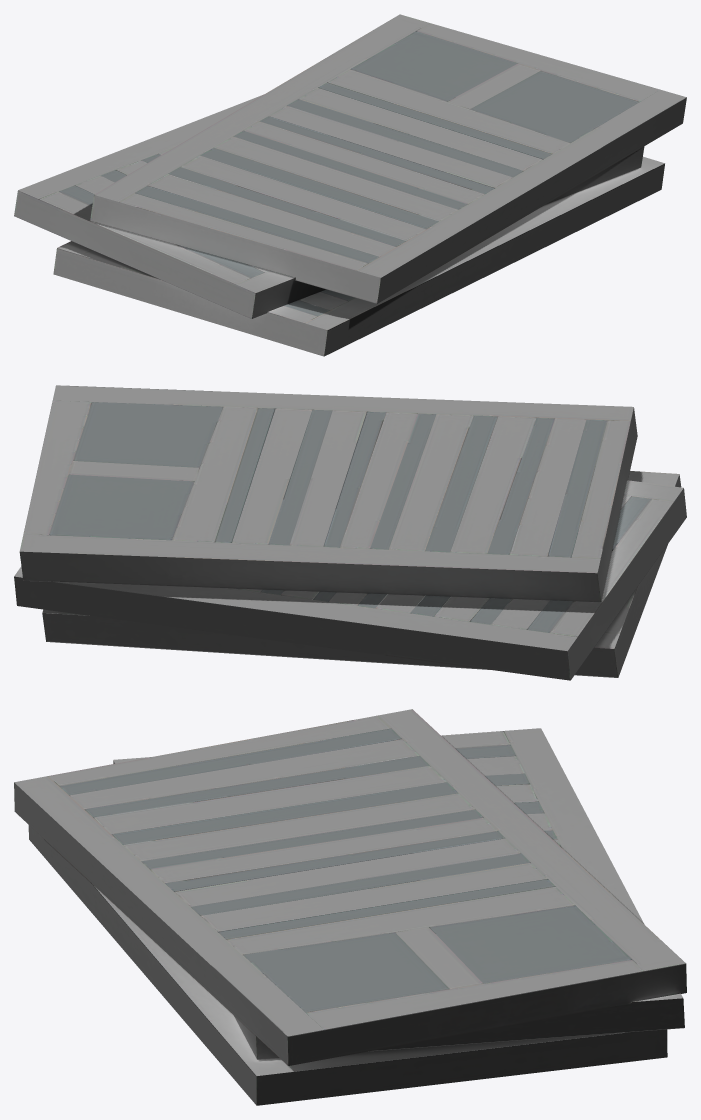
The model's file is documentos_h.glb.
3 views of the same model, one above another, from view 1: azimuth 30°, elevation 25°; view 2: azimuth 150°, elevation 25°; view 3: azimuth 270°, elevation 25° (orthographic). The views are drawn at different scales.
Visible parts, largest first — view 1: Node; view 2: Node; view 3: Node.
Boxes of the visible parts, bbox=[...] form: Node: bbox=[14, 14, 686, 356]; Node: bbox=[14, 385, 686, 680]; Node: bbox=[14, 709, 686, 1105].
Bounding box in the file's own units: 0.1878 × 0.0276 × 0.1535.
2 materials, 2 textured.
